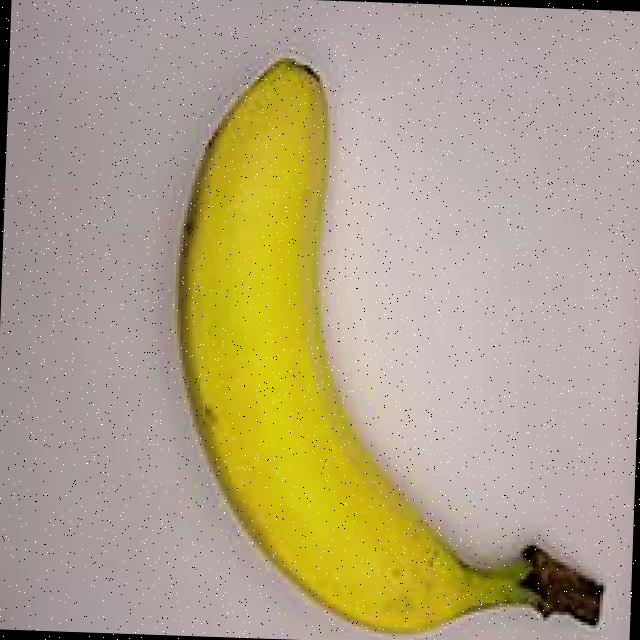Ripe: (101, 18, 640, 640)
